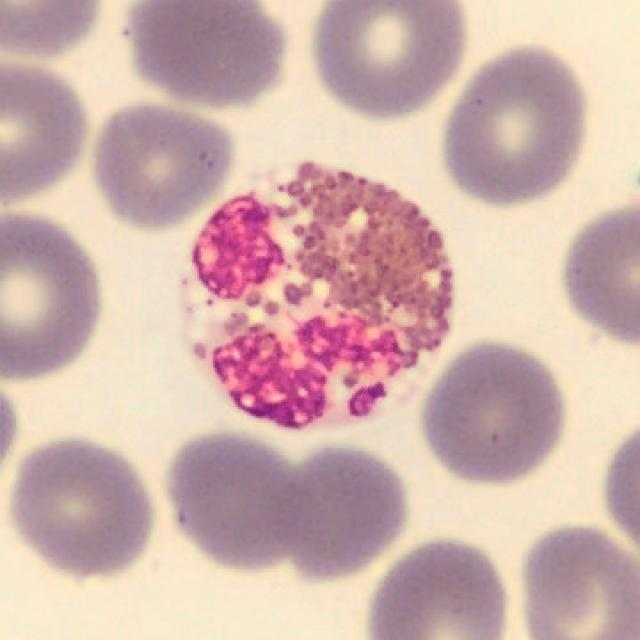Eosinofilo: (181, 162, 455, 432)
